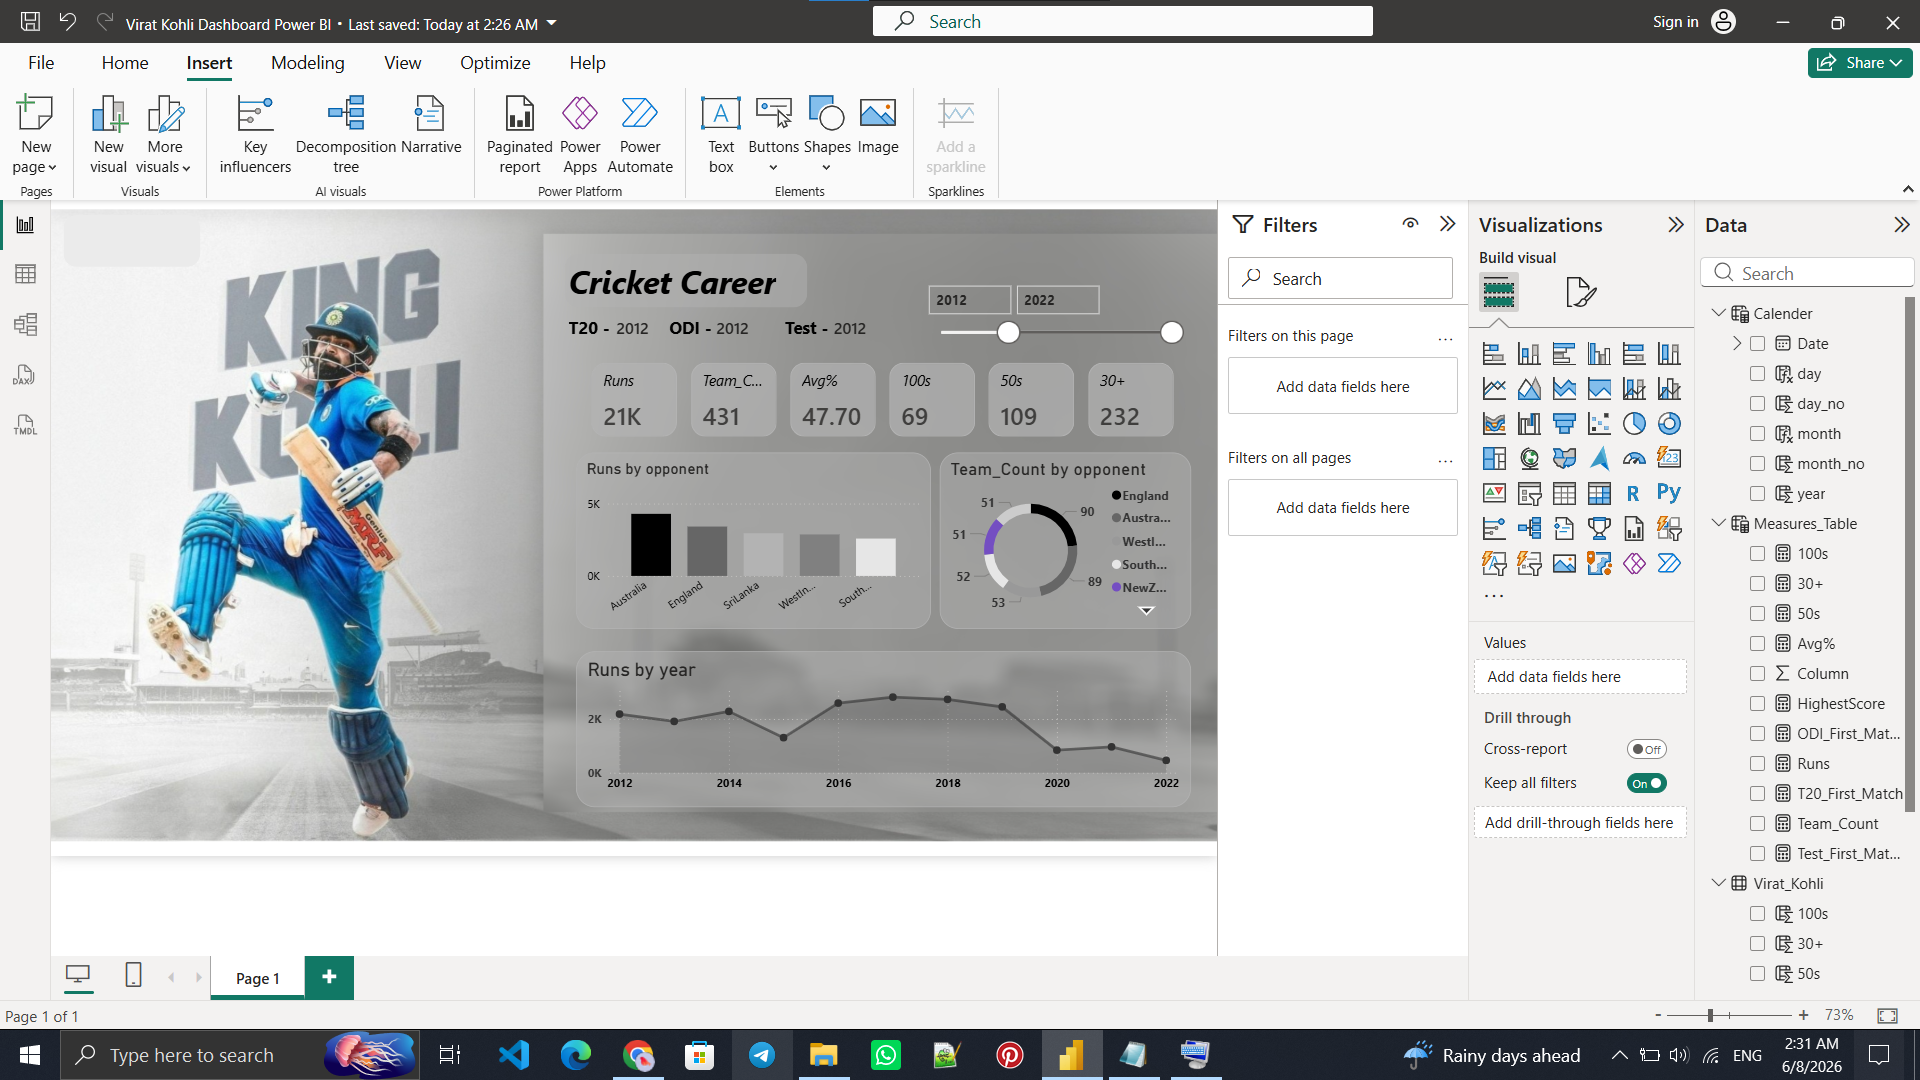

What the dashboard file says about the page in this screenshot:
{"tool":"powerbi","page":{"name":"Page 1","canvas":[1280,720],"ordinal":0},"visuals":[{"type":"cardVisual","fields":{"Data":["Measures_Table.Runs","Measures_Table.Total_Matches","Measures_Table.Avg%","Measures_Table.100s","Measures_Table.50s","Measures_Table.30+"]},"box":[576.3,161.9,675.1,115.3],"z":0},{"type":"clusteredColumnChart","fields":{"Y":["Measures_Table.Runs"],"Category":["Virat_Kohli.opponent"]},"box":[576.3,277.2,389.7,193.5],"z":1000},{"type":"donutChart","fields":{"Category":["Virat_Kohli.opponent"],"Y":["Measures_Table.Team_Count"]},"box":[975.6,277.2,275.8,193.5],"z":2000},{"type":"stackedAreaChart","fields":{"Category":["Calender.year"],"Y":["Measures_Table.Runs"]},"box":[576.3,495.4,675.1,171.5],"z":3000},{"type":"slicer","fields":{"Values":["Calender.year"]},"box":[950.9,83.7,300.5,78.2],"z":4000},{"type":"cardVisual","fields":{"Data":["Measures_Table.T20_First_Match"]},"box":[591.4,111.1,96.1,56.3],"z":5000},{"type":"shape","box":[551.6,118,78.2,43.9],"z":6000},{"type":"shape","box":[662.8,118,78.2,43.9],"z":7000},{"type":"shape","box":[790.4,118,78.2,43.9],"z":8000},{"type":"cardVisual","fields":{"Data":["Measures_Table.ODI_First_Match"]},"box":[701.2,111.1,98.8,56.3],"z":8001},{"type":"cardVisual","fields":{"Data":["Measures_Table.Test_First_Match"]},"box":[830.2,111.1,98.8,56.3],"z":8002},{"type":"shape","box":[564,59,266.2,59],"z":8003},{"type":"shape","box":[14.3,16.7,150,57.1],"z":8004}]}

Visuals, with their boxes on the page's 1280x720 design canvas (x1, y1, x2, y2). These are canvas units, not pixel positions in the 1920x1080 screenshot, which may show the page scaled, cropped or inside an application window:
cardVisual - Measures_Table.Runs x Measures_Table.Total_Matches: <bbox>576, 162, 1251, 277</bbox>
clusteredColumnChart - Measures_Table.Runs x Virat_Kohli.opponent: <bbox>576, 277, 966, 471</bbox>
donutChart - Virat_Kohli.opponent x Measures_Table.Team_Count: <bbox>976, 277, 1251, 471</bbox>
stackedAreaChart - Calender.year x Measures_Table.Runs: <bbox>576, 495, 1251, 667</bbox>
slicer - Calender.year: <bbox>951, 84, 1251, 162</bbox>
cardVisual - Measures_Table.T20_First_Match: <bbox>591, 111, 688, 167</bbox>
shape: <bbox>552, 118, 630, 162</bbox>
shape: <bbox>663, 118, 741, 162</bbox>
shape: <bbox>790, 118, 869, 162</bbox>
cardVisual - Measures_Table.ODI_First_Match: <bbox>701, 111, 800, 167</bbox>
cardVisual - Measures_Table.Test_First_Match: <bbox>830, 111, 929, 167</bbox>
shape: <bbox>564, 59, 830, 118</bbox>
shape: <bbox>14, 17, 164, 74</bbox>
